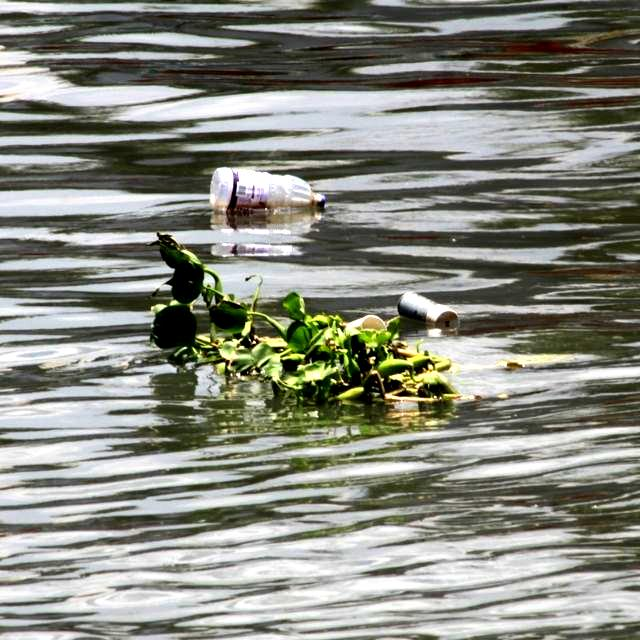can: (396, 287, 461, 332)
plastic bottle: (205, 164, 328, 211)
water-hyacinth: (150, 238, 472, 420)
